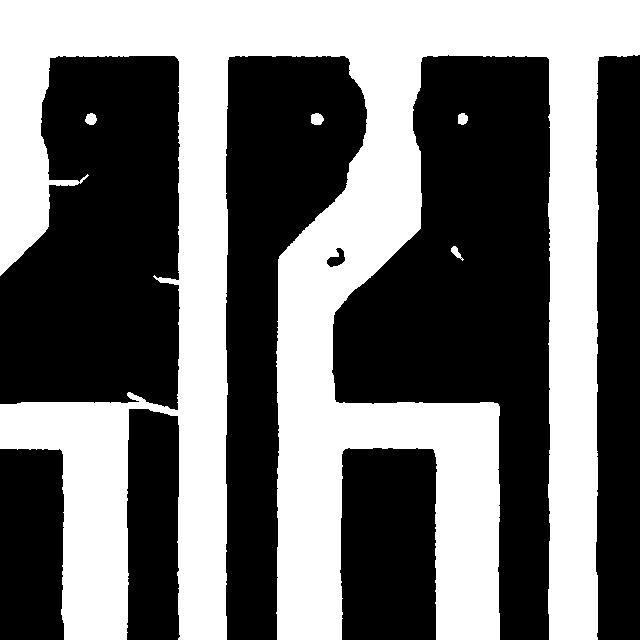copper: (317, 238, 354, 276)
mousebite: (32, 164, 98, 195), (143, 265, 190, 294)
open: (116, 382, 190, 425)
pin-hole: (441, 236, 473, 270)
